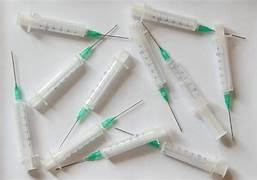Syringe: (142, 23, 226, 138), (42, 100, 141, 170), (64, 51, 130, 138), (130, 21, 181, 131), (29, 36, 103, 110), (11, 52, 38, 170), (148, 140, 227, 176), (17, 13, 127, 38), (83, 128, 165, 160), (132, 4, 214, 32), (132, 4, 213, 32), (161, 142, 227, 176), (215, 25, 233, 138), (62, 150, 103, 167)
